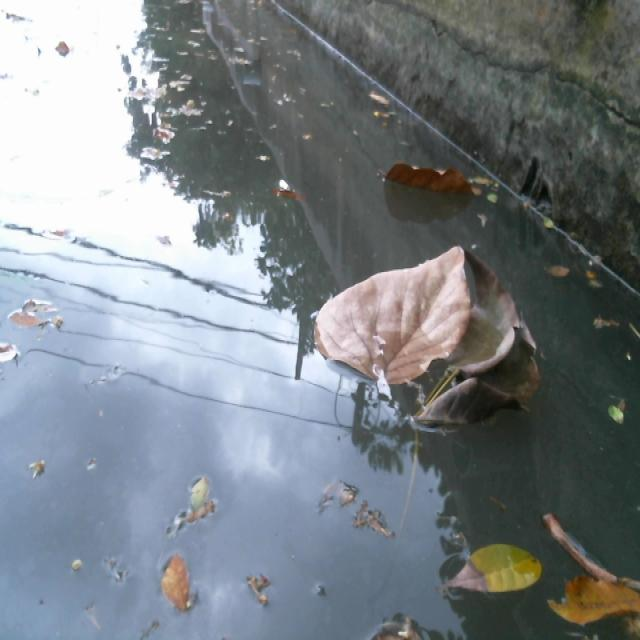Big-leaf: (312, 232, 548, 441), (536, 505, 640, 640), (374, 157, 495, 202)
Small-leaf: (462, 539, 543, 602), (156, 547, 206, 621), (178, 471, 236, 534), (362, 77, 416, 141), (249, 170, 327, 212), (132, 122, 188, 178), (10, 301, 65, 339), (596, 387, 631, 433), (188, 182, 248, 208), (367, 619, 439, 640), (593, 311, 638, 344), (583, 255, 612, 296), (482, 185, 511, 225), (0, 345, 30, 381), (545, 259, 571, 280), (545, 212, 566, 234)
